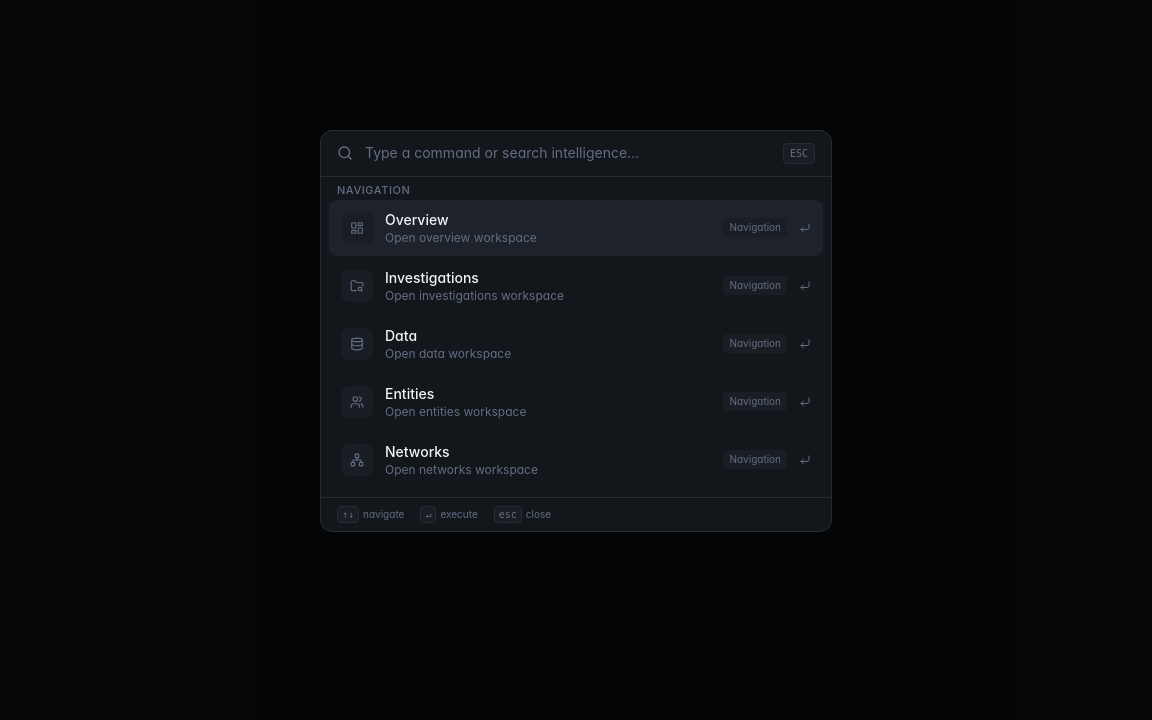
CommandPalette › filters entries as the user types
The width and height of the screenshot is (1152, 720).
Type "Rahul" into the field labelled "search" at {"x": 568, "y": 153}, box [365, 143, 771, 163]
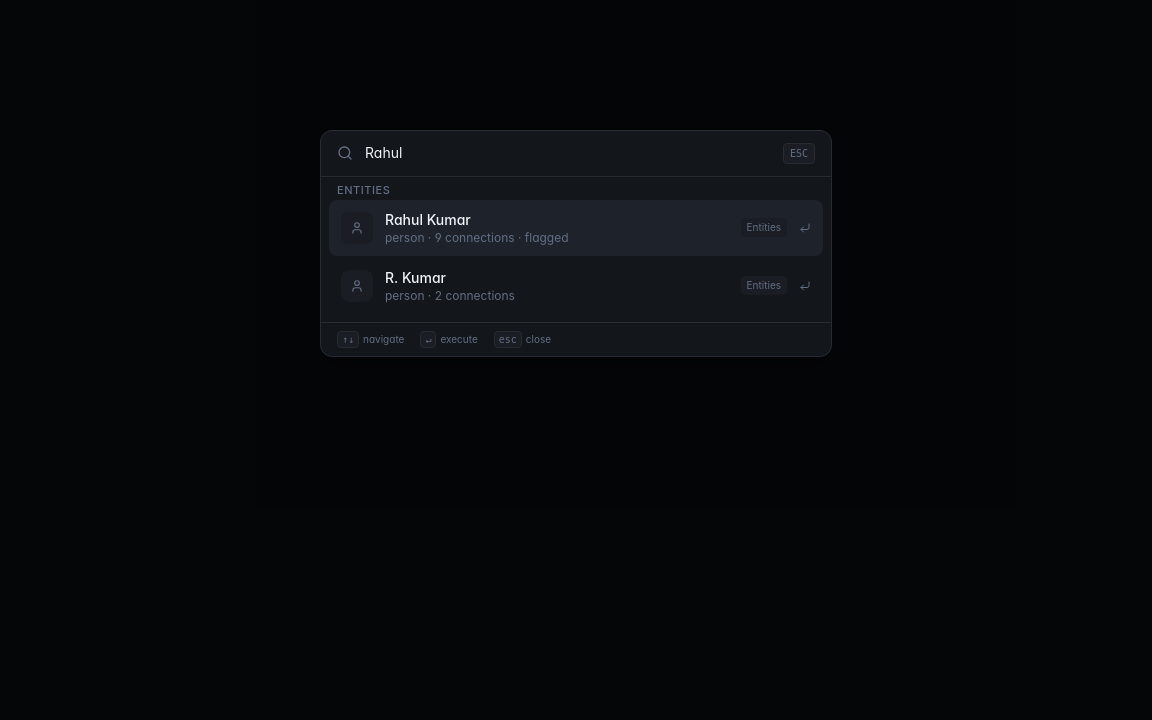
Check: the text "Rahul Kumar" is shown, box [385, 211, 471, 228]
Check: the button "Overview" is gone
Replace the text in the field named "search" with "zzz-no-match" at {"x": 568, "y": 153}, box [365, 143, 771, 163]
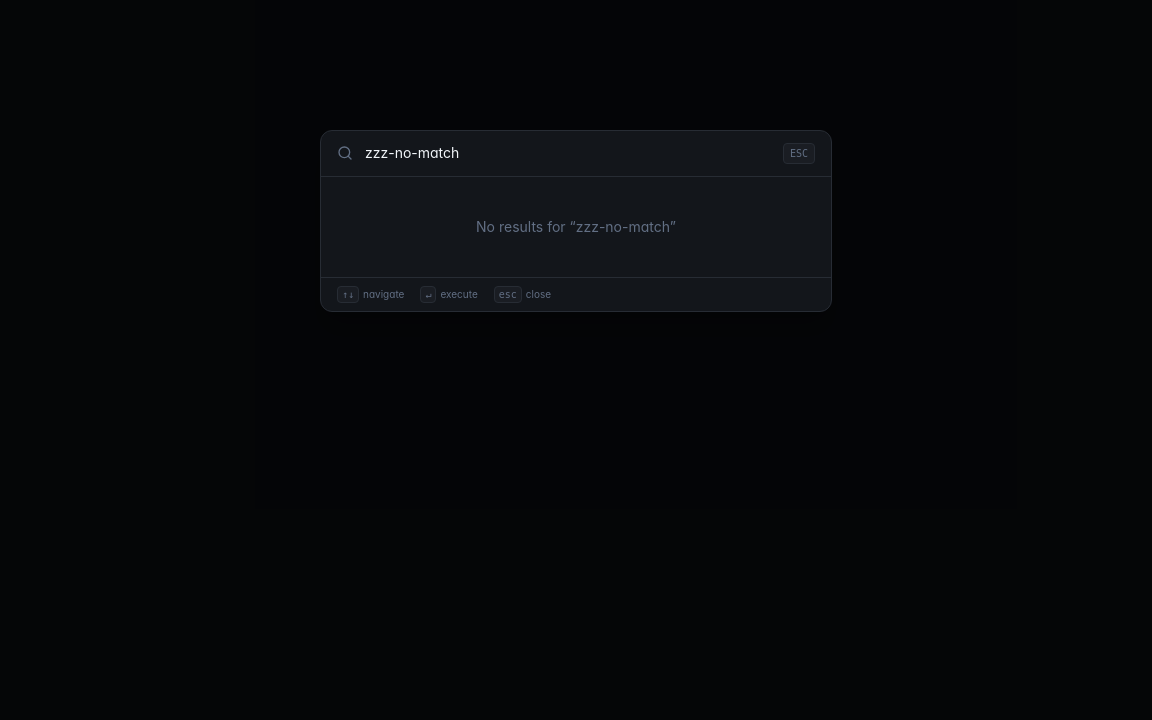
Check: the text "No results for “zzz-no-match”" is shown, box [476, 218, 676, 235]
